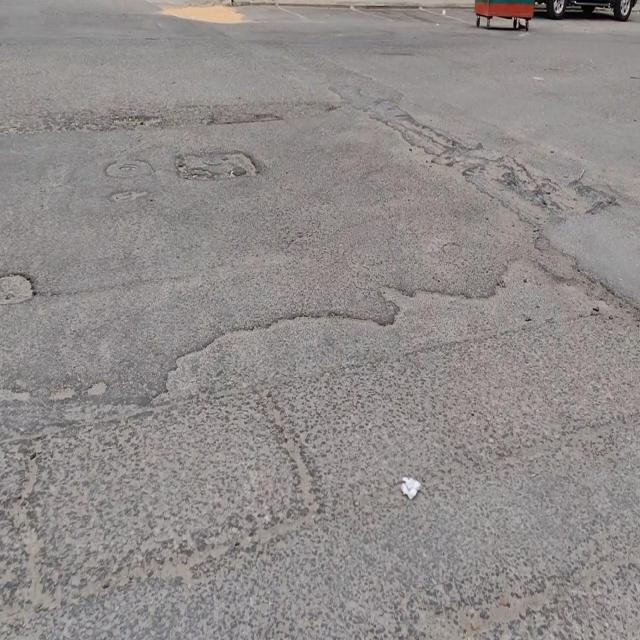Potholes: (174, 148, 261, 185), (2, 270, 36, 306)
